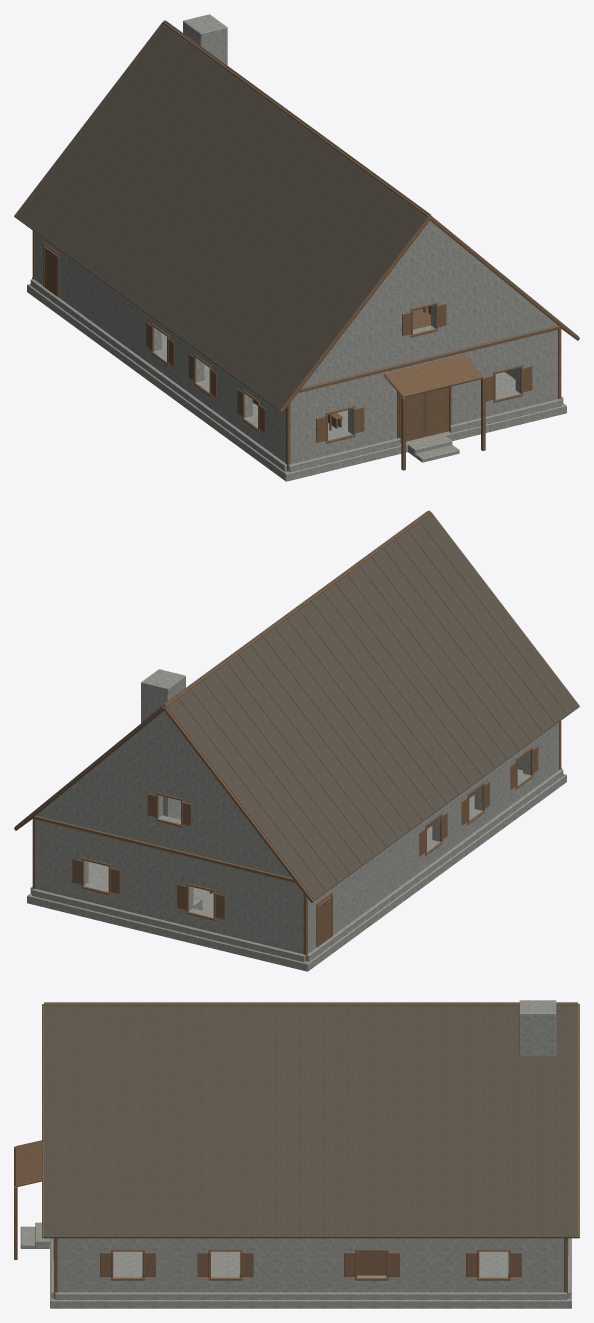
3 renders of one model, top to bottom at view 1: azimuth 30°, elevation 25°; view 2: azimuth 150°, elevation 25°; view 3: azimuth 270°, elevation 25°, orthographic.
Parts seen in each view (by area): view 1: T03B_roof_left, T03B_gable_front, T03B_wall_front, T03B_wall_left, T03B_foundation, T03B_entry_canopy, T03B_entry_frame_l, T03B_verge_-1_-1, T03B_chimney, T03B_ridge, T03B_entry_leaf1, T03B_left_1_frame_l (+3 smaller); view 2: T03B_roof_left, T03B_wall_rear, T03B_gable_rear, T03B_wall_left, T03B_foundation, T03B_rear_1_frame_l, T03B_verge_1_-1, T03B_chimney, T03B_ridge, T03B_left_1_frame_l, T03B_roof_right, T03B_kitchen_door_leaf0; view 3: T03B_roof_right, T03B_wall_right, T03B_foundation, T03B_chimney, T03B_right_1_frame_l, T03B_ridge, T03B_entry_canopy, T03B_roof_left, bar_shelf_post, T03B_wall_rear, T03B_wall_front, T03B_verge_1_-1 (+1 smaller).
Boxes of the visible parts, box(x1,y1,x2,y2) form: T03B_roof_left: box(15, 21, 429, 410); T03B_gable_front: box(302, 221, 557, 387); T03B_wall_front: box(288, 330, 561, 472); T03B_wall_left: box(30, 232, 295, 471); T03B_foundation: box(27, 284, 566, 481); T03B_entry_canopy: box(383, 354, 485, 470); T03B_entry_frame_l: box(286, 302, 561, 471); T03B_verge_-1_-1: box(279, 216, 579, 412); T03B_chimney: box(183, 14, 227, 65); T03B_ridge: box(162, 21, 431, 216); T03B_entry_leaf1: box(424, 387, 448, 436); T03B_left_1_frame_l: box(43, 242, 259, 432); T03B_roof_left: box(164, 511, 578, 900); T03B_wall_rear: box(32, 819, 310, 962); T03B_gable_rear: box(36, 711, 291, 877); T03B_wall_left: box(298, 724, 563, 961); T03B_foundation: box(27, 769, 566, 971); T03B_rear_1_frame_l: box(32, 792, 307, 961); T03B_verge_1_-1: box(14, 706, 314, 902); T03B_chimney: box(141, 669, 185, 816); T03B_ridge: box(162, 511, 431, 706); T03B_left_1_frame_l: box(316, 746, 533, 947); T03B_roof_right: box(15, 510, 429, 828); T03B_kitchen_door_leaf0: box(318, 896, 331, 946); T03B_roof_right: box(44, 1003, 577, 1238); T03B_wall_right: box(55, 1238, 567, 1299); T03B_foundation: box(20, 1222, 571, 1308); T03B_chimney: box(519, 1000, 556, 1056); T03B_right_1_frame_l: box(111, 1249, 510, 1280); T03B_ridge: box(44, 1002, 578, 1006); T03B_entry_canopy: box(14, 1140, 41, 1259); T03B_roof_left: box(44, 1002, 577, 1003); bar_shelf_post: box(357, 1251, 386, 1275); T03B_wall_rear: box(558, 1238, 570, 1298); T03B_wall_front: box(51, 1238, 63, 1298); T03B_verge_1_-1: box(577, 1004, 579, 1238).
Size of the model in its own units: 14.28 by 11 by 23.2.
Materials: 6 (5 with a texture image).
